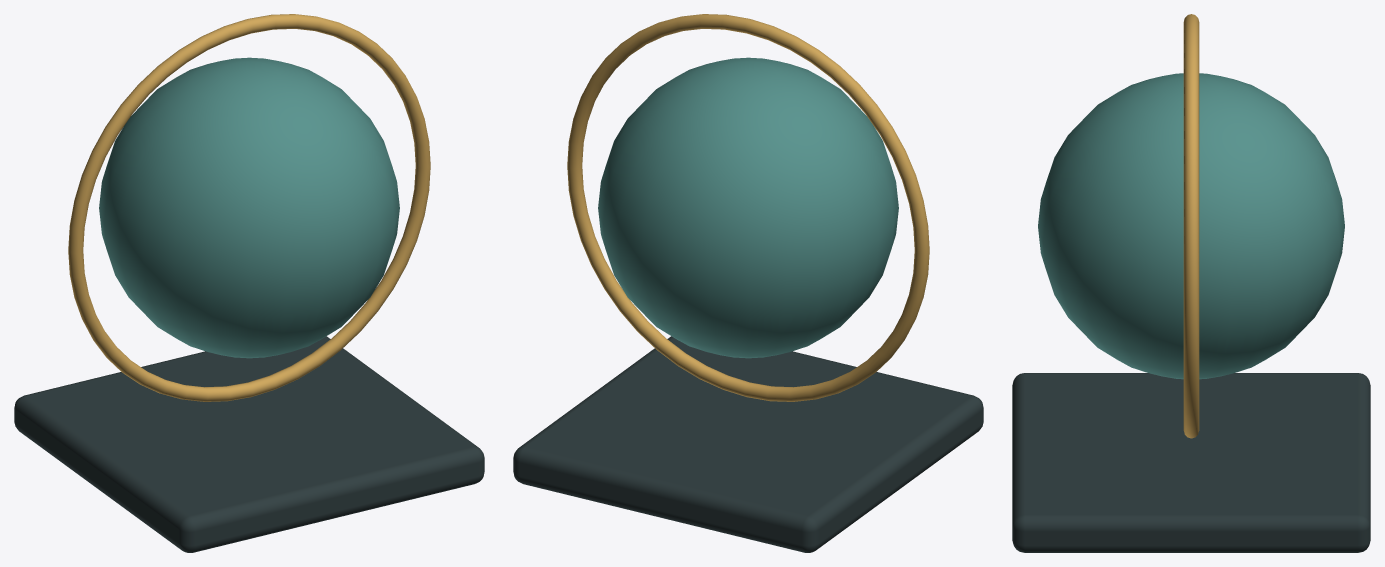
File: breathing.glb
3 renders of one model, left to right at view 1: azimuth 30°, elevation 25°; view 2: azimuth 150°, elevation 25°; view 3: azimuth 270°, elevation 25°, orthographic. The views are drawn at different scales.
Visible parts, largest first — view 1: breathing; view 2: breathing; view 3: breathing.
Boxes of the visible parts, left/top/right/bottom form: breathing: left=14, top=14, right=484, bottom=552; breathing: left=513, top=14, right=983, bottom=552; breathing: left=1012, top=14, right=1370, bottom=552.
Bounding box in the file's own units: 0.83 × 0.965 × 0.7.
